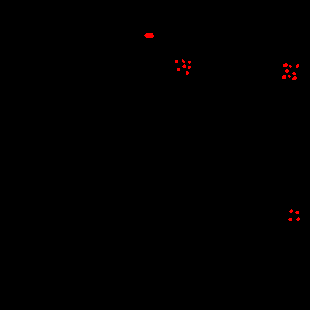Target: (144, 33, 154, 38), (283, 63, 288, 67), (292, 76, 297, 80), (182, 64, 186, 68), (285, 69, 289, 73), (282, 75, 286, 79), (289, 209, 293, 213), (296, 217, 300, 221), (182, 59, 185, 63), (296, 64, 299, 68), (186, 71, 189, 75), (292, 72, 296, 75), (295, 211, 299, 214), (288, 218, 292, 221), (175, 60, 178, 63), (188, 61, 191, 64), (289, 65, 292, 68), (188, 66, 191, 69), (177, 68, 180, 71), (288, 75, 291, 78)
